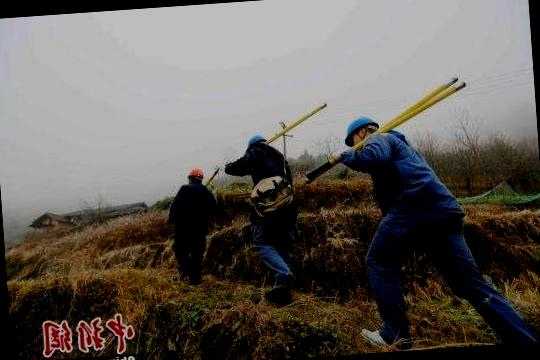person: (342, 105, 468, 354), (230, 131, 313, 323), (162, 164, 218, 293)
